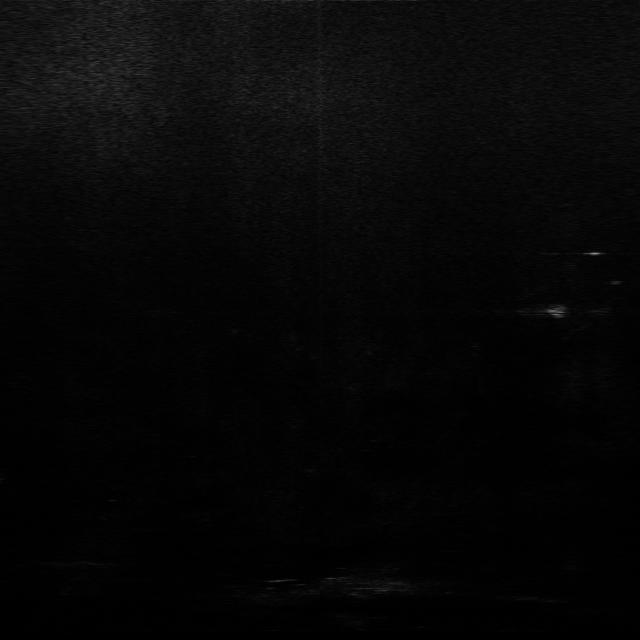rov: (534, 300, 572, 322)
